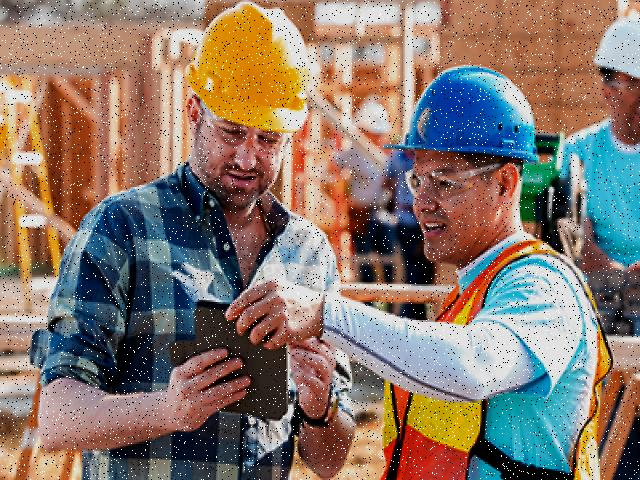Helmet: (178, 0, 324, 144), (375, 60, 545, 174)
